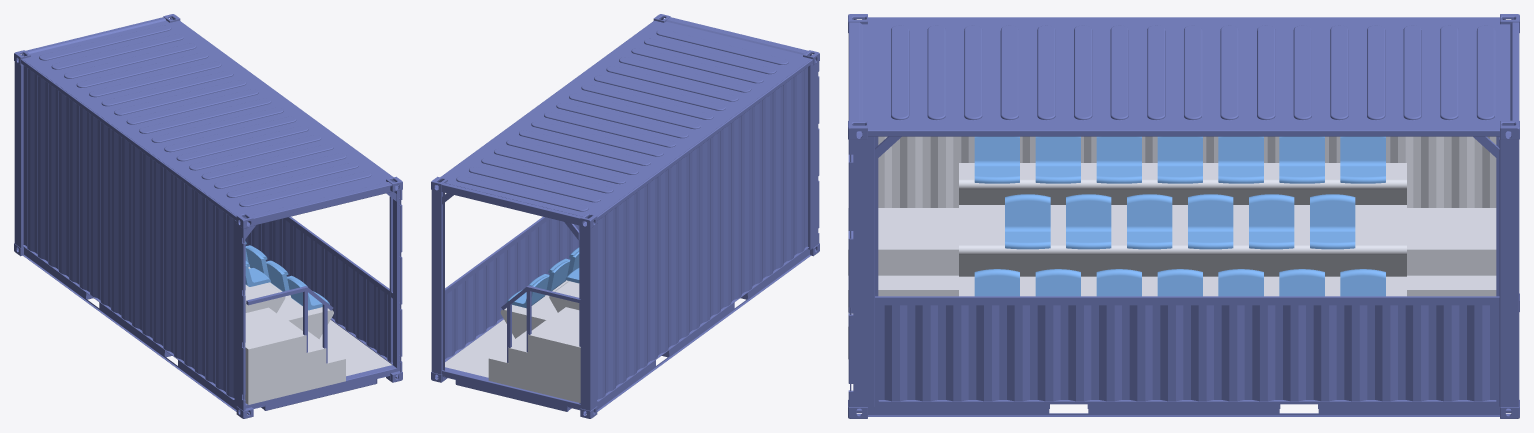
The model's file is lelato-20ft.glb.
3 renders of one model, left to right at view 1: azimuth 30°, elevation 25°; view 2: azimuth 150°, elevation 25°; view 3: azimuth 270°, elevation 25°, orthographic. The views are drawn at different scales.
Visible parts, largest first — view 1: Body238, Body1.024, Body88, Body1.023, Body1.016, Body1.014, Body1.021, Body1.010, Body1.043, Body1.018, Body1.012, Body1.011 (+9 smaller); view 2: Body238, Body1.024, Body88, Body1.023, Body1.021, Body1.020, Body1.016, Body1.014, Body1.022, Body1.043, Body1.019, Body1.018 (+5 smaller); view 3: Body1.024, Body1.023, Body88, Body237, Body1.015, Body1.011, Body119, Body1.020, Body1.017, Body105, Body106, Body107 (+20 smaller).
Boxes of the visible parts, x1,y1,x2,y2 form: Body238: (24,66,234,398); Body1.024: (22,21,392,215); Body88: (245,267,345,404); Body1.023: (245,218,389,361); Body1.016: (22,245,236,411); Body1.014: (234,220,245,410); Body1.021: (14,61,24,248); Body1.010: (245,365,396,410); Body1.043: (319,320,391,376); Body1.018: (21,59,236,220); Body1.012: (393,190,400,371); Body1.011: (389,190,402,372); Body238: (597,67,807,399); Body1.024: (441,21,811,216); Body88: (488,280,580,402); Body1.023: (445,218,579,358); Body1.021: (579,224,596,410); Body1.020: (431,190,444,374); Body1.016: (597,246,811,411); Body1.014: (806,61,819,249); Body1.022: (442,367,580,411); Body1.043: (445,319,514,377); Body1.019: (441,183,581,225); Body1.018: (597,59,812,220); Body1.024: (862,17,1508,129); Body1.023: (876,305,1498,401); Body88: (848,163,1496,359); Body237: (878,136,1496,207); Body1.015: (868,400,1499,416); Body1.011: (848,136,878,406); Body119: (875,296,1499,305); Body1.020: (1496,136,1519,406); Body1.017: (868,129,1499,136); Body105: (1005,194,1050,249); Body106: (1188,194,1233,249); Body107: (1249,194,1294,249).
Size of the model in its own units: 2.44 by 2.9 by 6.06.
